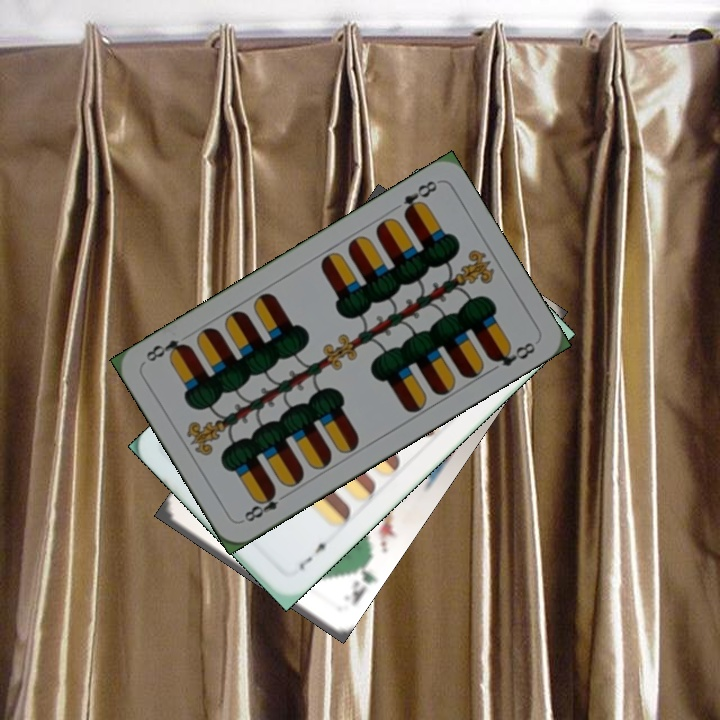E7: (294, 536, 334, 573)
E8: (238, 485, 291, 525), (399, 176, 440, 220)
GK: (347, 557, 377, 609)
